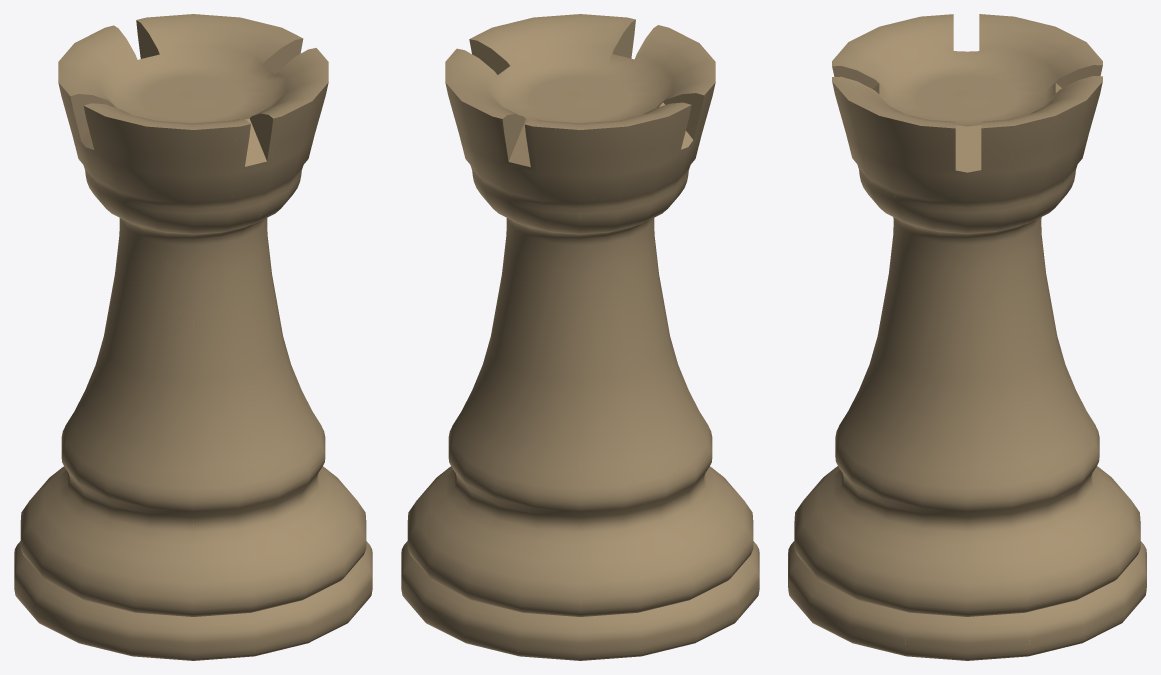
3 renders of one model, left to right at view 1: azimuth 30°, elevation 25°; view 2: azimuth 150°, elevation 25°; view 3: azimuth 270°, elevation 25°, orthographic.
Visible parts, largest first — view 1: TORRE3; view 2: TORRE3; view 3: TORRE3.
Part boxes in pixels (x1,y1,x2,y2): TORRE3: (14,14,372,660); TORRE3: (401,14,759,660); TORRE3: (788,14,1146,660).
Bounding box in the file's own units: 166 × 260 × 163.
